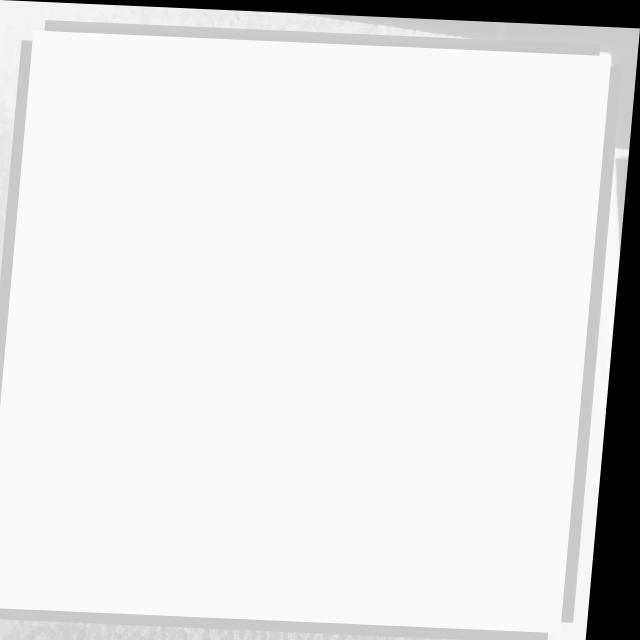qr_code: (0, 30, 612, 627)
